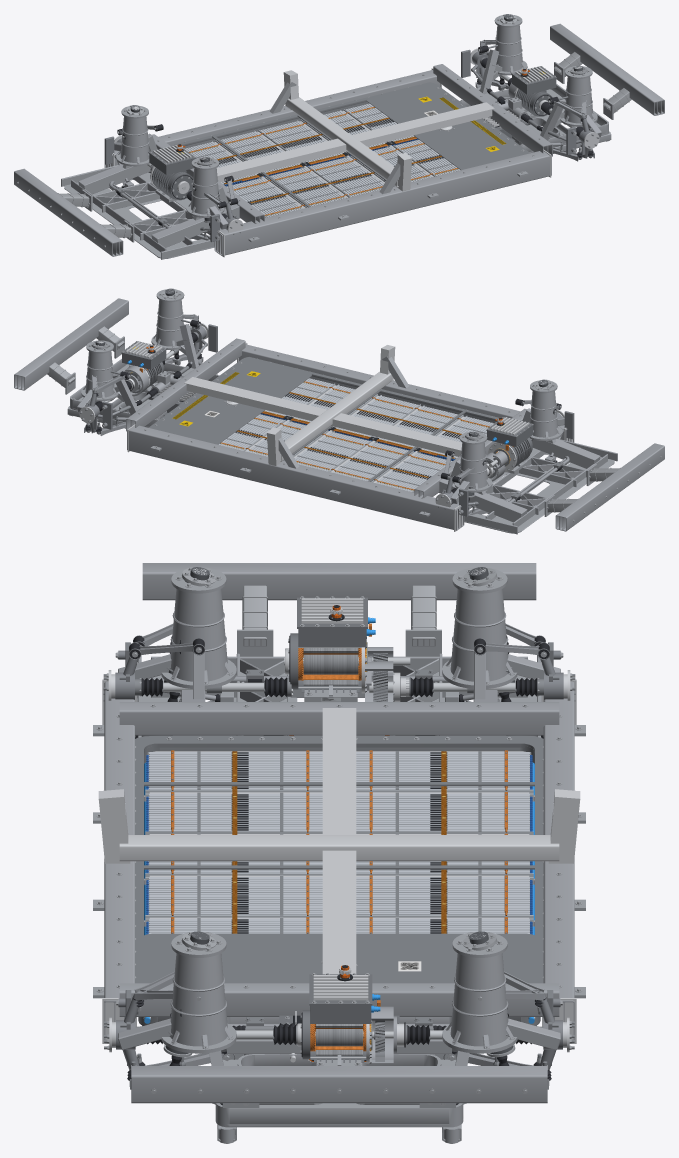
File: zeekr-7x-xray.glb
The picture shows the model from 3 angles, top to bottom: view 1: azimuth 30°, elevation 25°; view 2: azimuth 150°, elevation 25°; view 3: azimuth 270°, elevation 25°; orthographic projection. The views are drawn at different scales.
Parts seen in each view (by area): view 1: XR_Frame_Floor, XR_Battery, XR_Battery_Lid, XR_Frame_SubR, XR_Frame_CrashF, XR_Frame_CrashR, XR_Frame_SubF, XR_Susp_RL_Tower, XR_Susp_RR_Tower, XR_Susp_FR_Tower, XR_Susp_FL_Tower, XR_Battery_Busbars (+13 smaller); view 2: XR_Frame_Floor, XR_Battery, XR_Battery_Lid, XR_Frame_SubR, XR_Frame_CrashF, XR_Frame_CrashR, XR_Frame_SubF, XR_Susp_RL_Tower, XR_Susp_RR_Tower, XR_Susp_FL_Tower, XR_Susp_FR_Tower, XR_Battery_Busbars (+14 smaller); view 3: XR_Frame_Floor, XR_Battery, XR_Battery_Lid, XR_Frame_CrashF, XR_Frame_CrashR, XR_Frame_SubF, XR_Susp_FL_Tower, XR_Susp_FR_Tower, XR_Susp_RR_Tower, XR_Susp_RL_Tower, XR_Frame_SubR, XR_Drive_R_Inverter (+22 smaller).
Part boxes in pixels (box(x1,y1,x2,y2)): XR_Frame_Floor: box(104, 64, 552, 257); XR_Battery: box(184, 103, 460, 217); XR_Battery_Lid: box(170, 82, 530, 217); XR_Frame_SubR: box(61, 133, 239, 259); XR_Frame_CrashF: box(550, 23, 664, 119); XR_Frame_CrashR: box(14, 168, 134, 256); XR_Frame_SubF: box(460, 49, 611, 153); XR_Susp_RL_Tower: box(114, 106, 149, 166); XR_Susp_RR_Tower: box(186, 157, 228, 229); XR_Susp_FR_Tower: box(560, 66, 601, 137); XR_Susp_FL_Tower: box(486, 14, 527, 75); XR_Battery_Busbars: box(189, 107, 457, 215); XR_Frame_Floor: box(126, 338, 574, 531); XR_Battery: box(218, 378, 494, 491); XR_Battery_Lid: box(148, 357, 498, 492); XR_Frame_SubR: box(439, 408, 617, 534); XR_Frame_CrashF: box(14, 298, 128, 394); XR_Frame_CrashR: box(544, 443, 664, 531); XR_Frame_SubF: box(67, 324, 219, 428); XR_Susp_RL_Tower: box(450, 431, 492, 503); XR_Susp_RR_Tower: box(529, 380, 564, 440); XR_Susp_FL_Tower: box(77, 340, 118, 411); XR_Susp_FR_Tower: box(151, 289, 192, 349); XR_Battery_Busbars: box(221, 381, 489, 490); XR_Frame_Floor: box(93, 679, 585, 1043); XR_Battery: box(145, 751, 533, 934); XR_Battery_Lid: box(135, 736, 543, 983); XR_Frame_CrashF: box(131, 1066, 547, 1107); XR_Frame_CrashR: box(142, 563, 536, 656); XR_Frame_SubF: box(209, 1017, 469, 1143); XR_Susp_FL_Tower: box(442, 931, 560, 1053); XR_Susp_FR_Tower: box(118, 931, 236, 1053); XR_Susp_RR_Tower: box(118, 567, 236, 688); XR_Susp_RL_Tower: box(442, 567, 560, 688); XR_Frame_SubR: box(137, 651, 541, 737); XR_Drive_R_Inverter: box(297, 596, 375, 647).
Size of the model in its own units: 4.55 by 0.687 by 1.75.
Materials: 29 (12 with a texture image).
